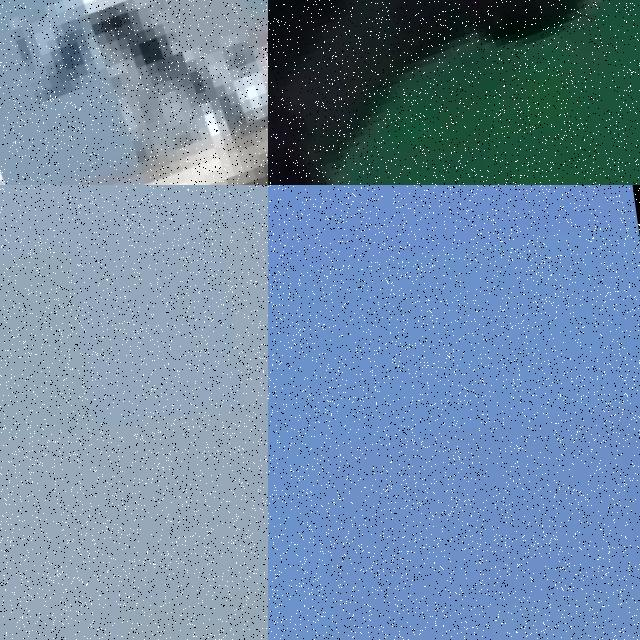0: (0, 0, 268, 185)
drone: (268, 0, 640, 185)
